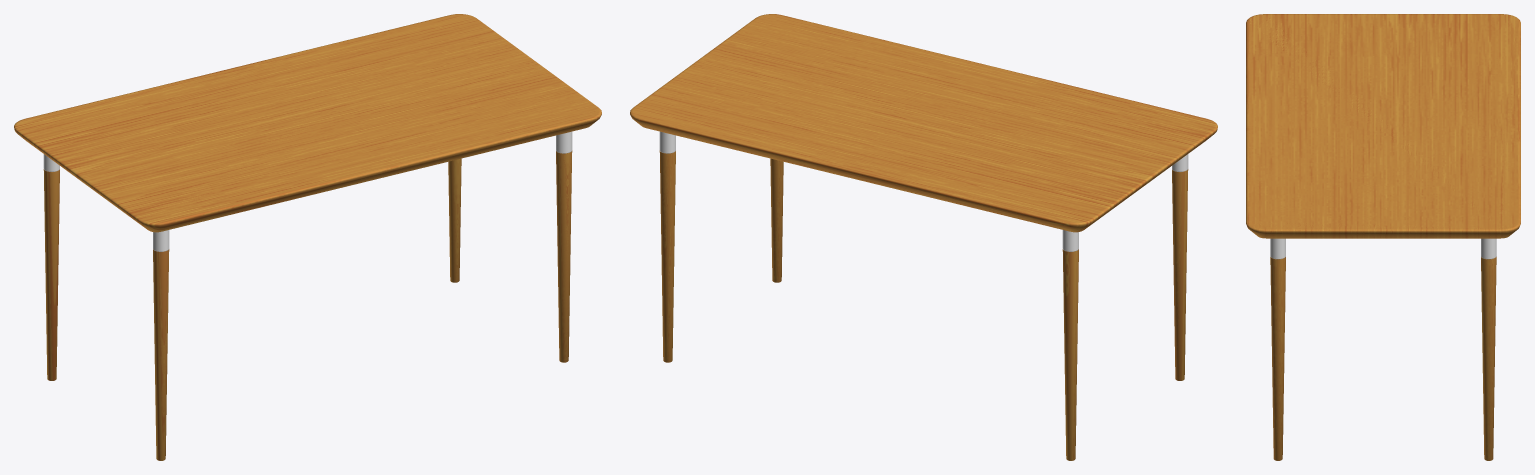
The model's file is ikea desk.fbx.
3 views of the same model, side by side, from view 1: azimuth 30°, elevation 25°; view 2: azimuth 150°, elevation 25°; view 3: azimuth 270°, elevation 25° (orthographic). The views are drawn at different scales.
Parts seen in each view (by area): view 1: Cube, Cylinder.001, Cylinder; view 2: Cube, Cylinder.001, Cylinder; view 3: Cube, Cylinder.001, Cylinder.
Part boxes in pixels (bbox=[...]): Cube: bbox=[14, 14, 601, 232]; Cylinder.001: bbox=[43, 150, 572, 460]; Cylinder: bbox=[43, 131, 572, 251]; Cube: bbox=[630, 14, 1217, 232]; Cylinder.001: bbox=[659, 150, 1188, 460]; Cylinder: bbox=[659, 131, 1188, 251]; Cube: bbox=[1246, 14, 1520, 238]; Cylinder.001: bbox=[1270, 257, 1496, 460]; Cylinder: bbox=[1270, 238, 1496, 259].
Size of the model in its own units: 140 by 73 by 75.
Materials: 1 (1 with a texture image).
